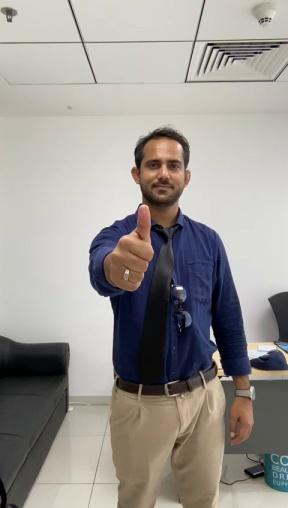thumbs-up: (109, 205, 161, 296)
